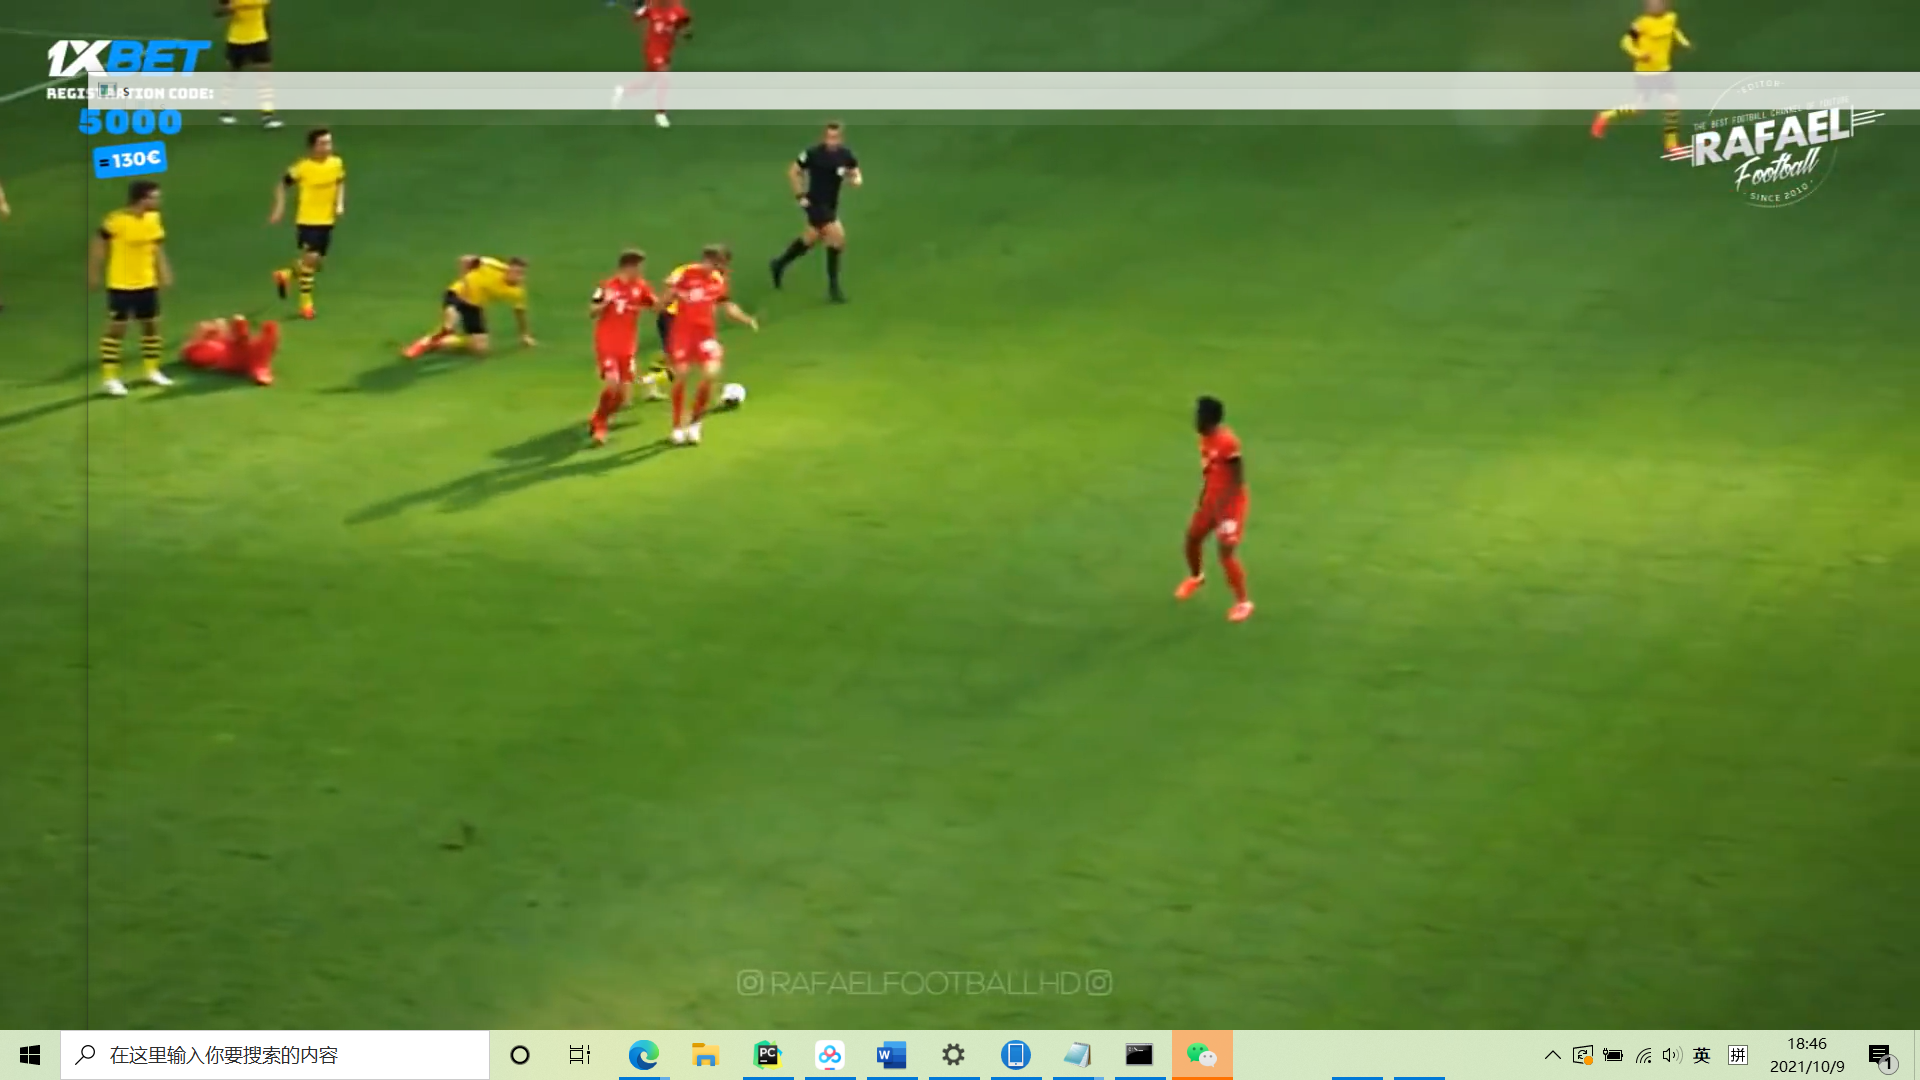ft: (719, 382, 748, 407)
